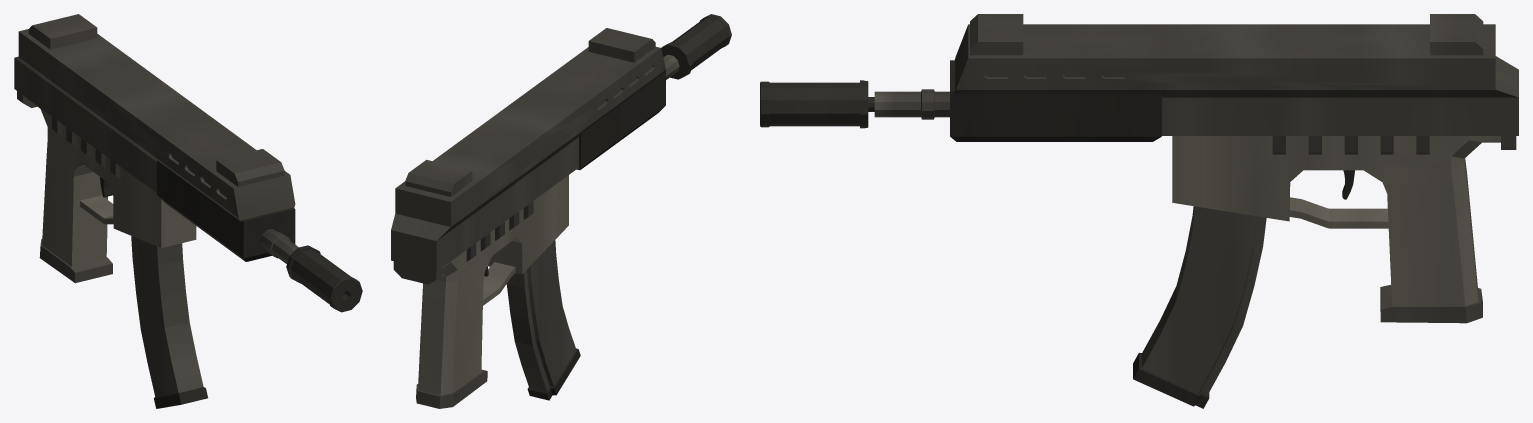
The picture shows the model from 3 angles, left to right: view 1: azimuth 30°, elevation 25°; view 2: azimuth 150°, elevation 25°; view 3: azimuth 270°, elevation 25°; orthographic projection. The views are drawn at different scales.
Visible parts, largest first — view 1: viper45; view 2: viper45; view 3: viper45.
Boxes of the visible parts, x1,y1,x2,y2 form: viper45: [14, 14, 362, 408]; viper45: [391, 14, 731, 408]; viper45: [760, 14, 1518, 408].
Bounding box in the file's own units: 0.0636 × 0.3272 × 0.6.
Materials: 1 (1 with a texture image).
